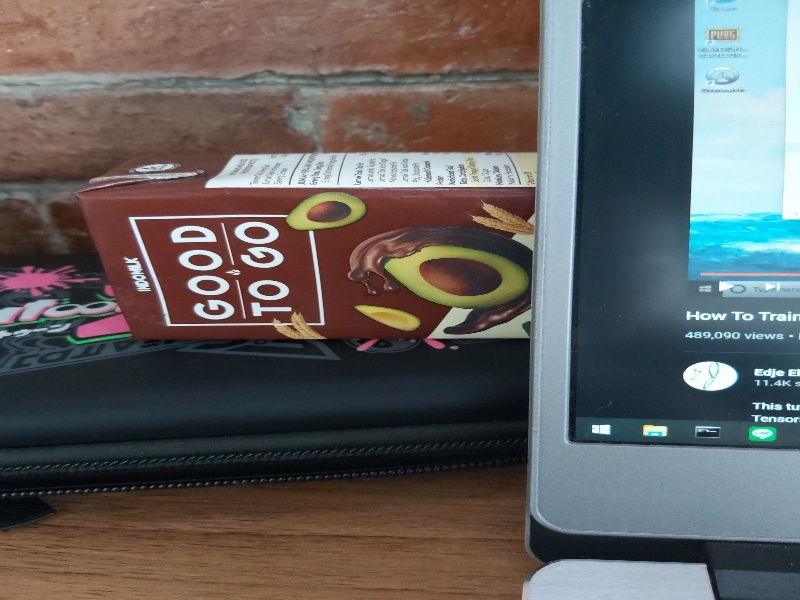cokelat: (70, 151, 539, 343)
